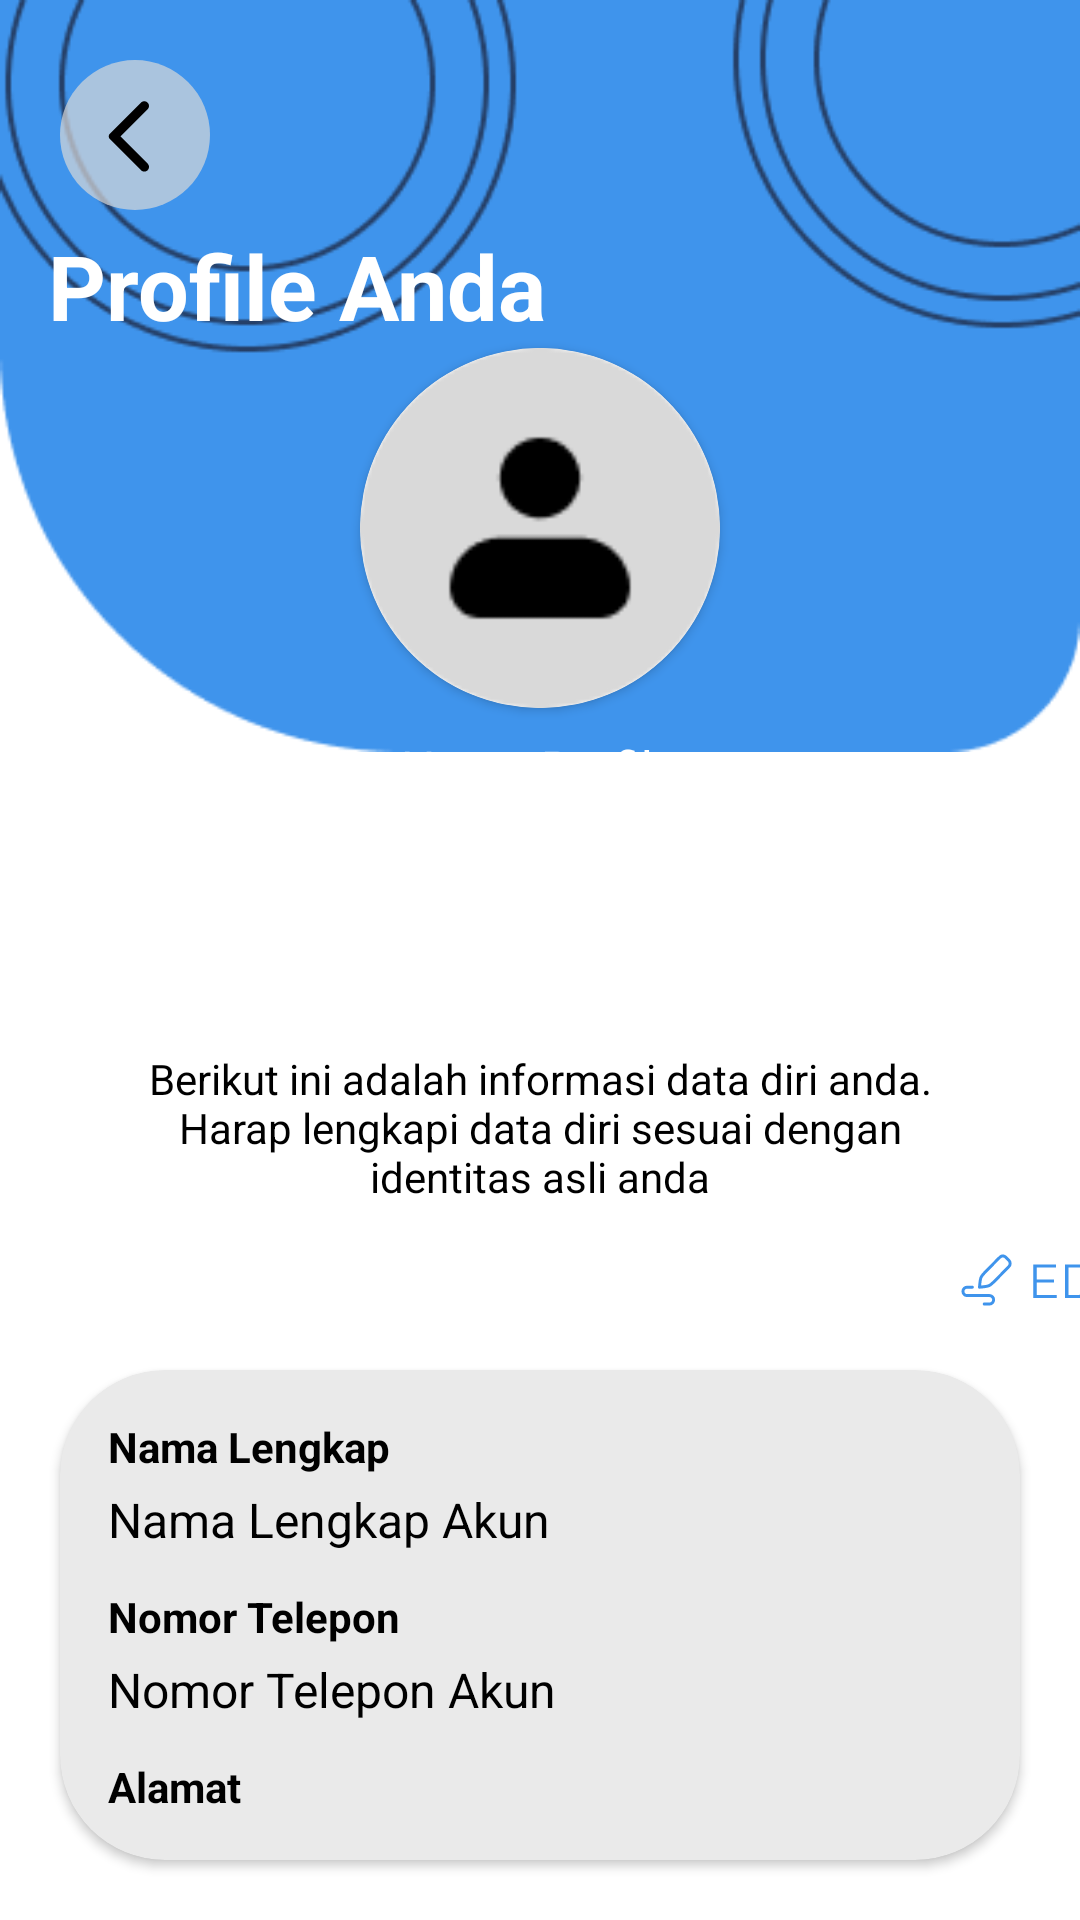

Locate icon controls on the screen. Image size 1080×1920, boxes as bbox(x1, y1, x2, y2).
Foto profil pengguna: bbox(360, 348, 720, 708)
